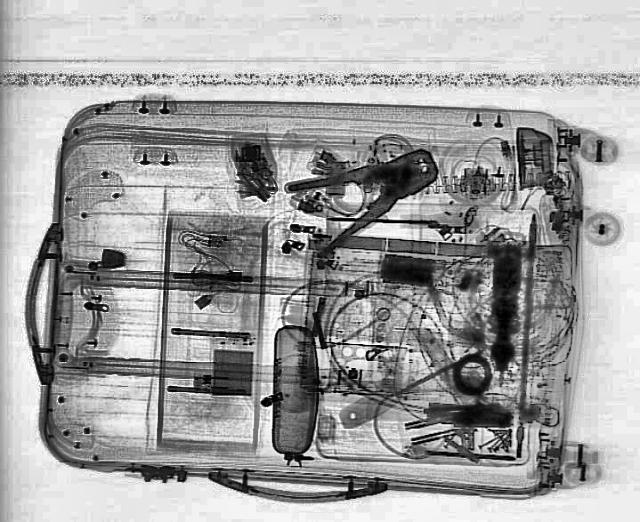Pliers: (276, 134, 464, 256)
